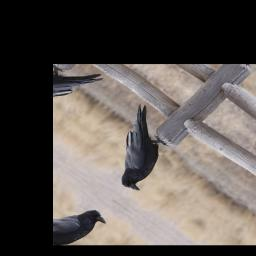Crow: (83, 101, 195, 195)
